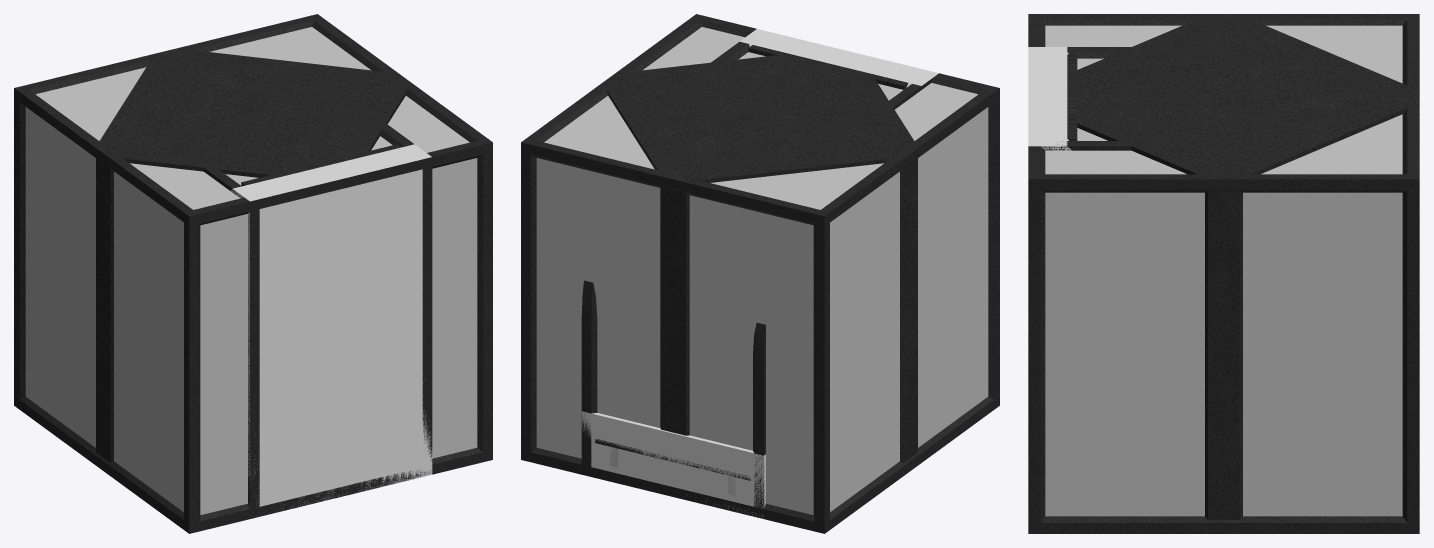
File: movables.dae
3 views of the same model, side by side, from view 1: azimuth 30°, elevation 25°; view 2: azimuth 150°, elevation 25°; view 3: azimuth 270°, elevation 25° (orthographic). The views are drawn at different scales.
Visible parts, largest first — view 1: cobe_movable_L_Mi_Glass, cobe_movable_L_Stair_Col, cobe_movable_L_Mi_Col, cobe_movable_L_Mi, cobe_movable_L, cobe_movable_L_Stair; view 2: cobe_movable_L_Mi_Glass, cobe_movable_L_Mi_Col, cobe_movable_L, cobe_movable_L_Mi, cobe_movable_L_Stair_Col, cobe_movable_L_Stair; view 3: cobe_movable_L_Mi_Glass, cobe_movable_L_Mi_Col, cobe_movable_L_Mi, cobe_movable_L, cobe_movable_L_Stair_Col, cobe_movable_L_Stair.
Part boxes in pixels (box(x1,y1,x2,y2)): cobe_movable_L_Mi_Glass: box(25, 27, 477, 511); cobe_movable_L_Stair_Col: box(230, 144, 432, 509); cobe_movable_L_Mi_Col: box(96, 48, 410, 462); cobe_movable_L_Mi: box(14, 14, 492, 533); cobe_movable_L: box(25, 27, 469, 514); cobe_movable_L_Stair: box(163, 94, 432, 518); cobe_movable_L_Mi_Glass: box(536, 27, 988, 514); cobe_movable_L_Mi_Col: box(603, 55, 917, 462); cobe_movable_L: box(536, 27, 977, 514); cobe_movable_L_Mi: box(521, 14, 999, 533); cobe_movable_L_Stair_Col: box(581, 29, 938, 518); cobe_movable_L_Stair: box(581, 41, 933, 518); cobe_movable_L_Mi_Glass: box(1045, 25, 1402, 516); cobe_movable_L_Mi_Col: box(1076, 15, 1417, 519); cobe_movable_L_Mi: box(1028, 14, 1419, 533); cobe_movable_L: box(1045, 25, 1402, 515); cobe_movable_L_Stair_Col: box(1028, 47, 1071, 150); cobe_movable_L_Stair: box(1042, 47, 1223, 150).
Size of the model in its own units: 2 by 2 by 2.
